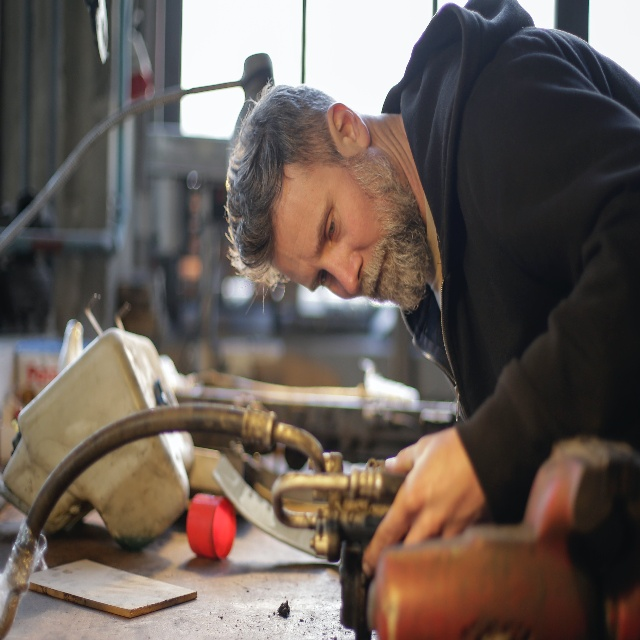Sin_guantes: (359, 427, 482, 580)
